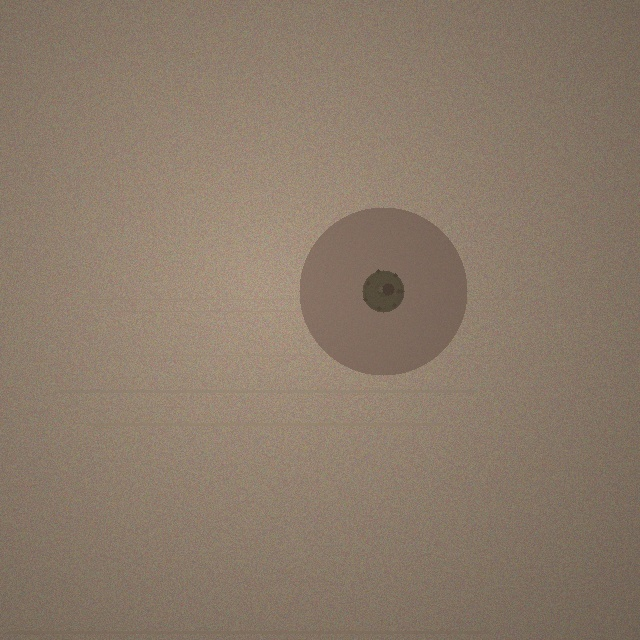cold_weld: (299, 207, 467, 375)
